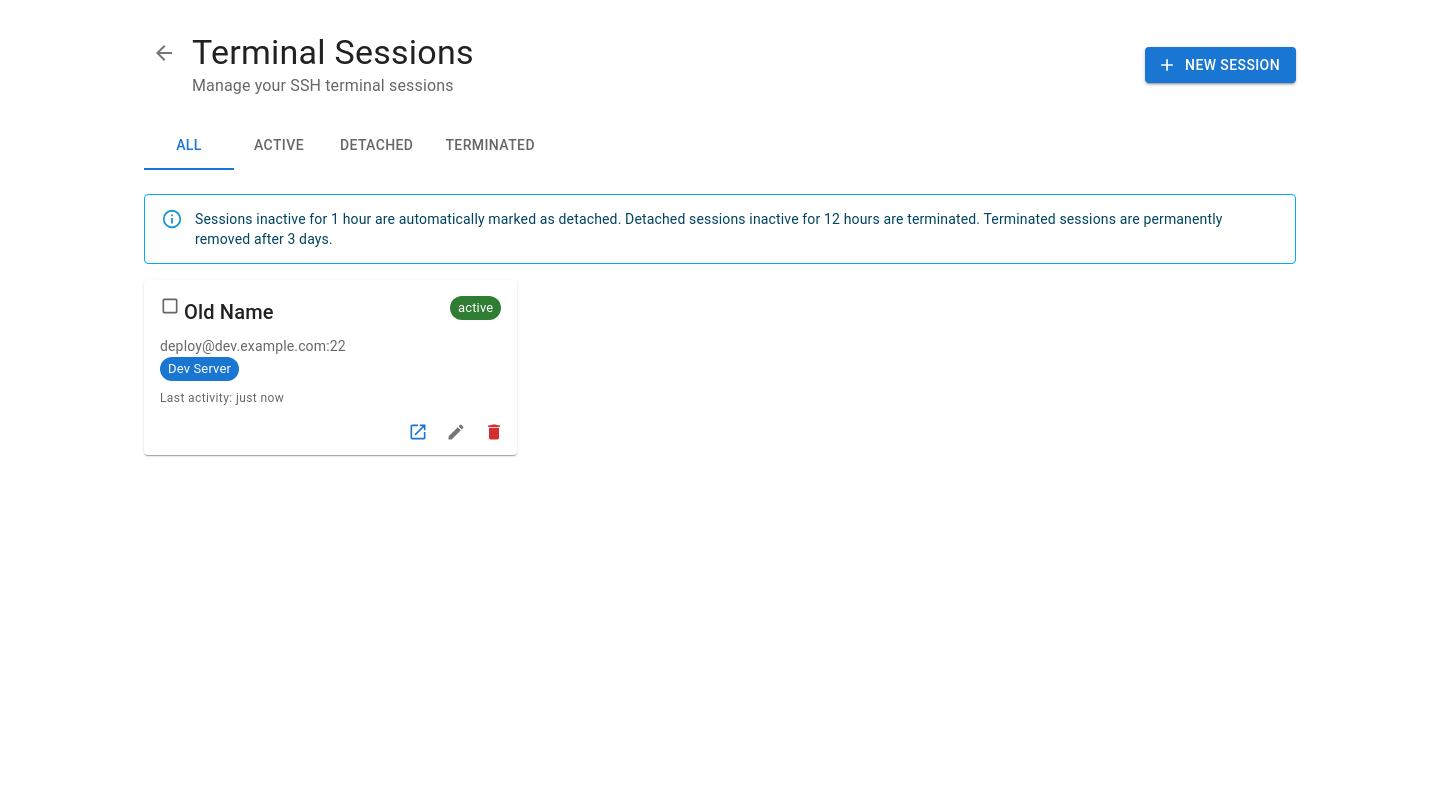
it: SessionsPage › Rename session › should open rename dialog when rename button is clicked
This screenshot has width=1440, height=810.
Click the button with test id "EditIcon". click: (456, 432)
box: [441,417,471,447]
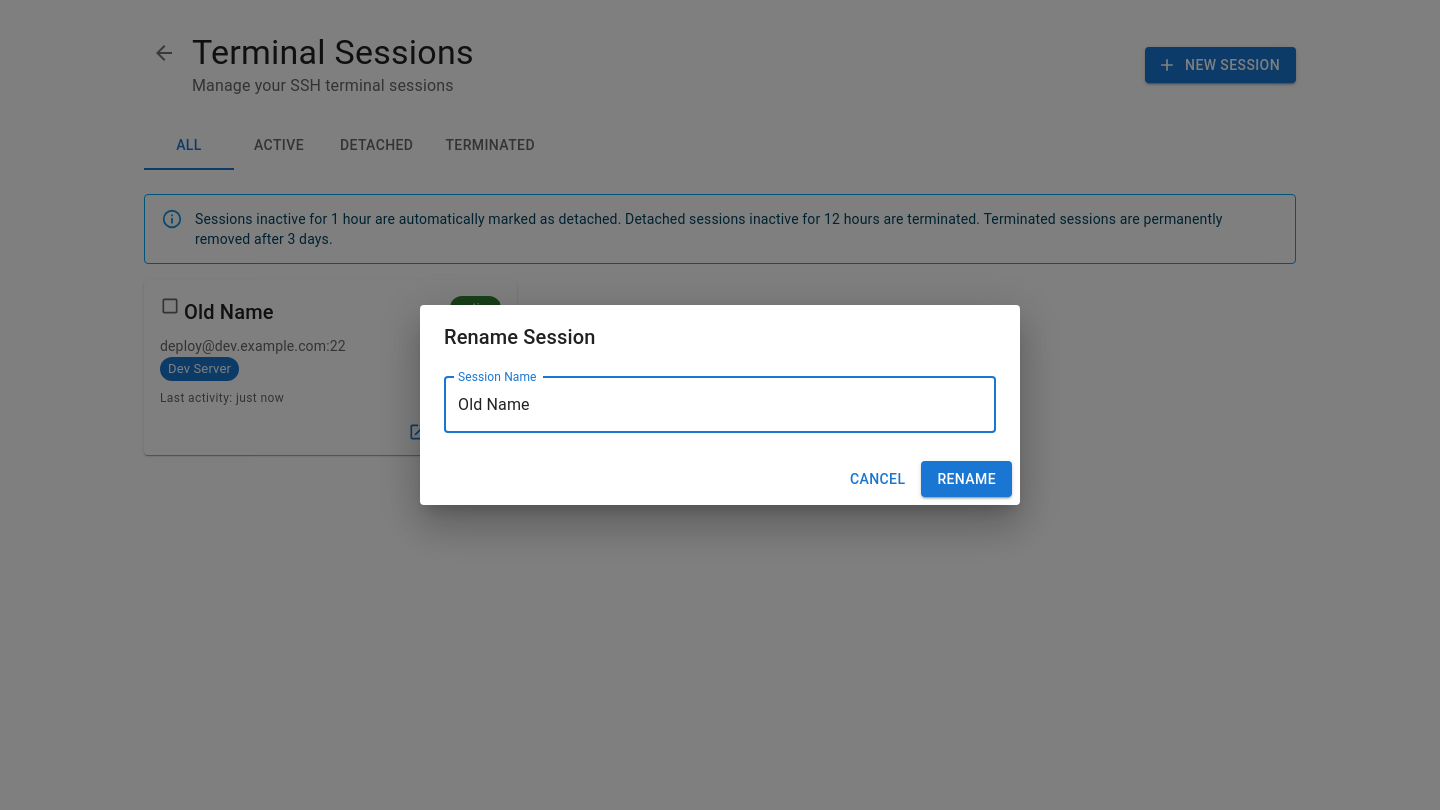
Check: the dialog is shown, box [420,305,1020,505]
Check: the heading "Rename Session" is shown, box [444,325,596,349]
